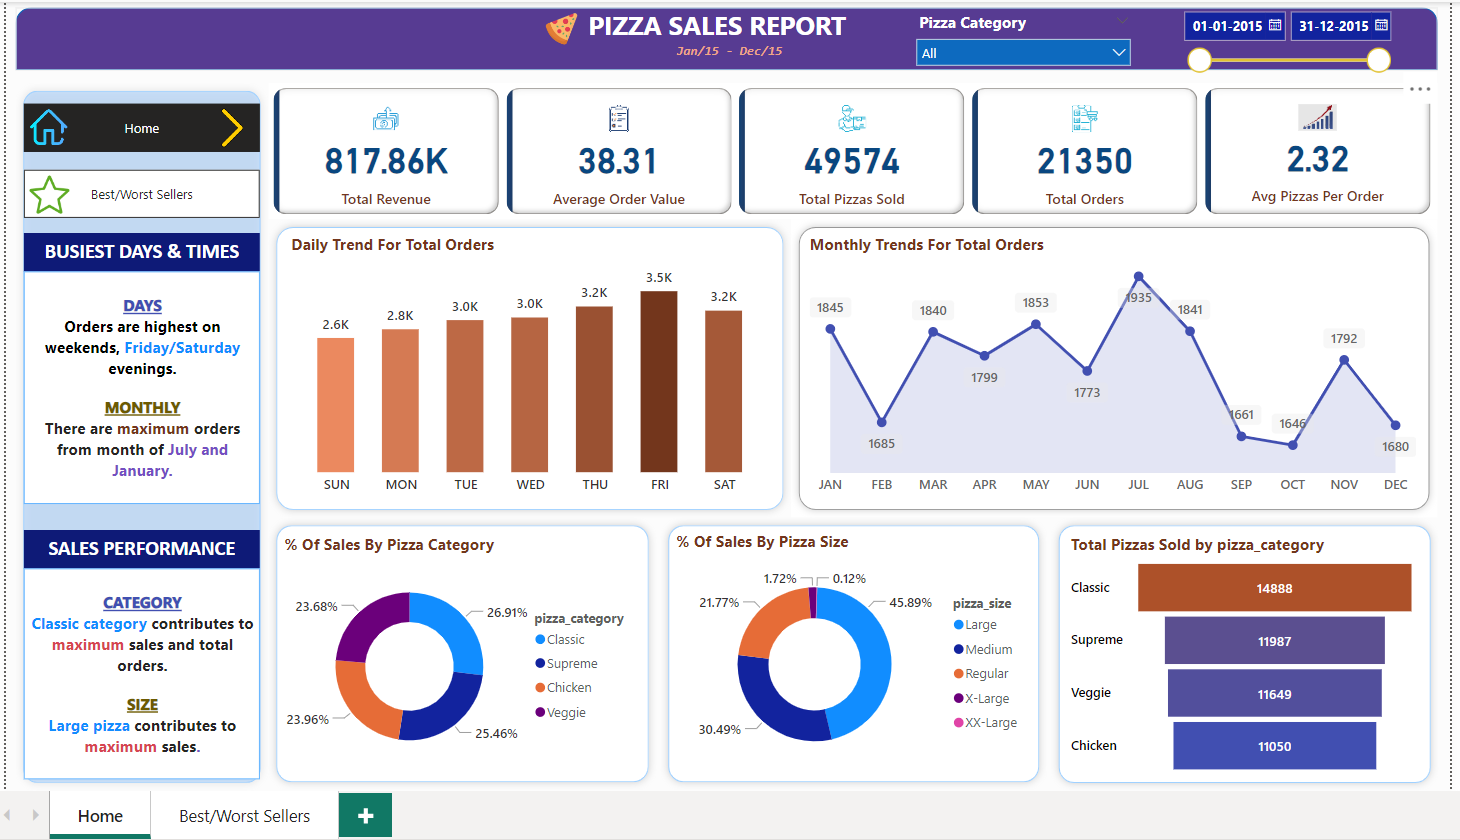

What the dashboard file says about the page in this screenshot:
{"tool":"powerbi","page":{"name":"Home","canvas":[1500,820],"ordinal":0},"visuals":[{"type":"shape","box":[10,83.8,262.5,735],"z":0},{"type":"cardVisual","fields":{"Data":["pizza_sales.Total Revenue","pizza_sales.Average Order Value","pizza_sales.Total Pizzas Sold","pizza_sales.Total Orders","pizza_sales.Avg Pizzas Per Order"]},"box":[272.9,84.3,1214.3,141.4],"z":1000},{"type":"shape","box":[10,6.2,1477.5,65],"z":2000},{"type":"textbox","box":[600,0,288.6,68.6],"z":3000},{"type":"textbox","box":[691.4,35.7,150,32.9],"z":4000},{"type":"image","box":[554.3,5.7,45.7,44.3],"z":5000},{"type":"shape","box":[816.2,226.2,671.2,310],"z":6000},{"type":"areaChart","title":"Monthly Trends For Total Orders","fields":{"Category":["pizza_sales.Order Month"],"Y":["pizza_sales.Total Orders"]},"box":[830,240,640,281.2],"z":7000},{"type":"shape","box":[272.9,225.7,542.9,310],"z":8000},{"type":"columnChart","title":"Daily Trend For Total Orders","fields":{"Category":["pizza_sales.Order Day"],"Y":["pizza_sales.Total Orders"]},"box":[291.4,240,507.1,281.4],"z":9000},{"type":"shape","box":[272.9,535.7,402.9,282.9],"z":10000},{"type":"shape","box":[680,535.7,401.4,282.9],"z":11000},{"type":"shape","box":[1085,535,402.5,283.8],"z":12000},{"type":"donutChart","title":"% Of Sales By Pizza Category","fields":{"Category":["pizza_sales.pizza_category"],"Y":["pizza_sales.Total Revenue"]},"box":[284.3,551.4,378.6,255.7],"z":13000},{"type":"donutChart","title":"% Of Sales By Pizza Size","fields":{"Y":["pizza_sales.Total Revenue"],"Category":["pizza_sales.pizza_size"]},"box":[691.4,548.6,377.1,257.1],"z":14000},{"type":"funnel","fields":{"Category":["pizza_sales.pizza_category"],"Y":["pizza_sales.Total Pizzas Sold"]},"box":[1101.2,551.2,368.8,256.2],"z":15000},{"type":"textbox","box":[18.8,240,245,40],"z":16000},{"type":"textbox","box":[18.8,280,245,241.2],"z":17000},{"type":"textbox","box":[18.8,548.8,245,40],"z":18000},{"type":"textbox","box":[18.8,588.8,245,218.8],"z":19000},{"type":"slicer","fields":{"Values":["pizza_sales.pizza_category"]},"box":[935.7,4.3,242.9,65.7],"z":20000},{"type":"slicer","fields":{"Values":["pizza_sales.order_date"]},"box":[1211.4,0,235.7,84.3],"z":21000},{"type":"pageNavigator","box":[18.8,105,245,50],"z":22000},{"type":"pageNavigator","box":[18.8,175,245,50],"z":23000},{"type":"image","box":[205,105,58.8,50],"z":24000},{"type":"image","box":[20,103.8,48.8,51.2],"z":24001},{"type":"image","box":[17.5,175,56.2,51.2],"z":24002}]}

Visuals, with their boxes on the page's 1500x820 design canvas (x1, y1, x2, y2). These are canvas units, not pixel positions in the 1460x840 screenshot, which may show the page scaled, cropped or inside an application window:
shape: bbox(10, 84, 272, 819)
cardVisual - pizza_sales.Total Revenue x pizza_sales.Average Order Value: bbox(273, 84, 1487, 226)
shape: bbox(10, 6, 1488, 71)
textbox: bbox(600, 0, 889, 69)
textbox: bbox(691, 36, 841, 69)
image: bbox(554, 6, 600, 50)
shape: bbox(816, 226, 1487, 536)
"Monthly Trends For Total Orders" areaChart: bbox(830, 240, 1470, 521)
shape: bbox(273, 226, 816, 536)
"Daily Trend For Total Orders" columnChart: bbox(291, 240, 798, 521)
shape: bbox(273, 536, 676, 819)
shape: bbox(680, 536, 1081, 819)
shape: bbox(1085, 535, 1488, 819)
"% Of Sales By Pizza Category" donutChart: bbox(284, 551, 663, 807)
"% Of Sales By Pizza Size" donutChart: bbox(691, 549, 1068, 806)
funnel - pizza_sales.pizza_category x pizza_sales.Total Pizzas Sold: bbox(1101, 551, 1470, 807)
textbox: bbox(19, 240, 264, 280)
textbox: bbox(19, 280, 264, 521)
textbox: bbox(19, 549, 264, 589)
textbox: bbox(19, 589, 264, 808)
slicer - pizza_sales.pizza_category: bbox(936, 4, 1179, 70)
slicer - pizza_sales.order_date: bbox(1211, 0, 1447, 84)
pageNavigator: bbox(19, 105, 264, 155)
pageNavigator: bbox(19, 175, 264, 225)
image: bbox(205, 105, 264, 155)
image: bbox(20, 104, 69, 155)
image: bbox(18, 175, 74, 226)
